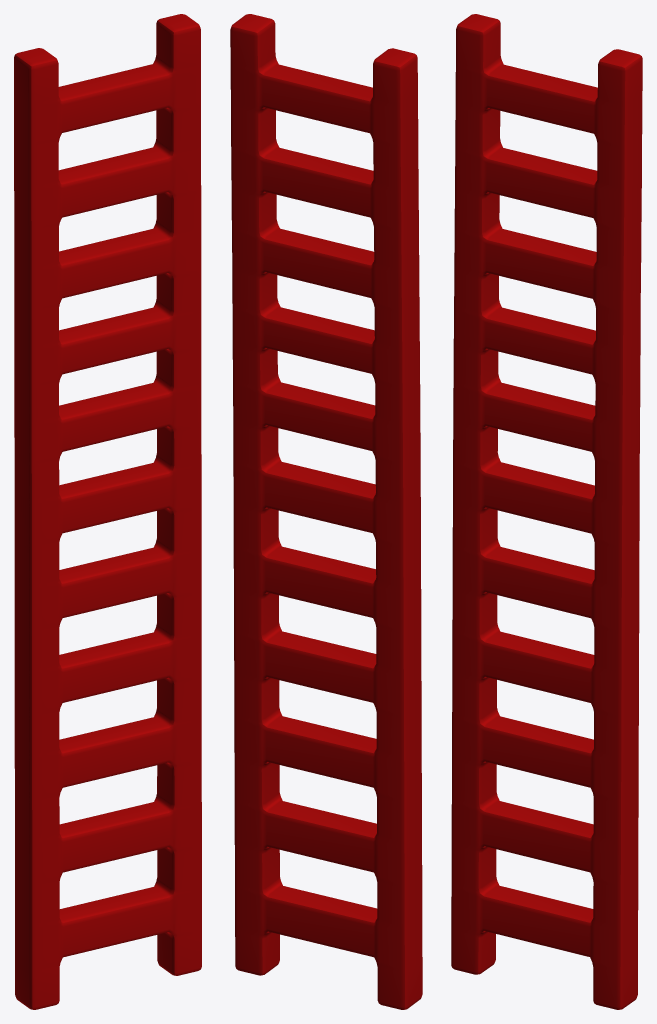
Rendered from S1_L_Ladder00.fbx.
3 renders of one model, left to right at view 1: azimuth 30°, elevation 25°; view 2: azimuth 150°, elevation 25°; view 3: azimuth 330°, elevation 25°, orthographic.
Parts seen in each view (by area): view 1: S1_Ladder00; view 2: S1_Ladder00; view 3: S1_Ladder00.
Part boxes in pixels (bbox=[...]): S1_Ladder00: bbox=[14, 14, 201, 1009]; S1_Ladder00: bbox=[230, 14, 422, 1009]; S1_Ladder00: bbox=[451, 14, 642, 1009].
Bounding box in the file's own units: 389 × 2017 × 85.86.
